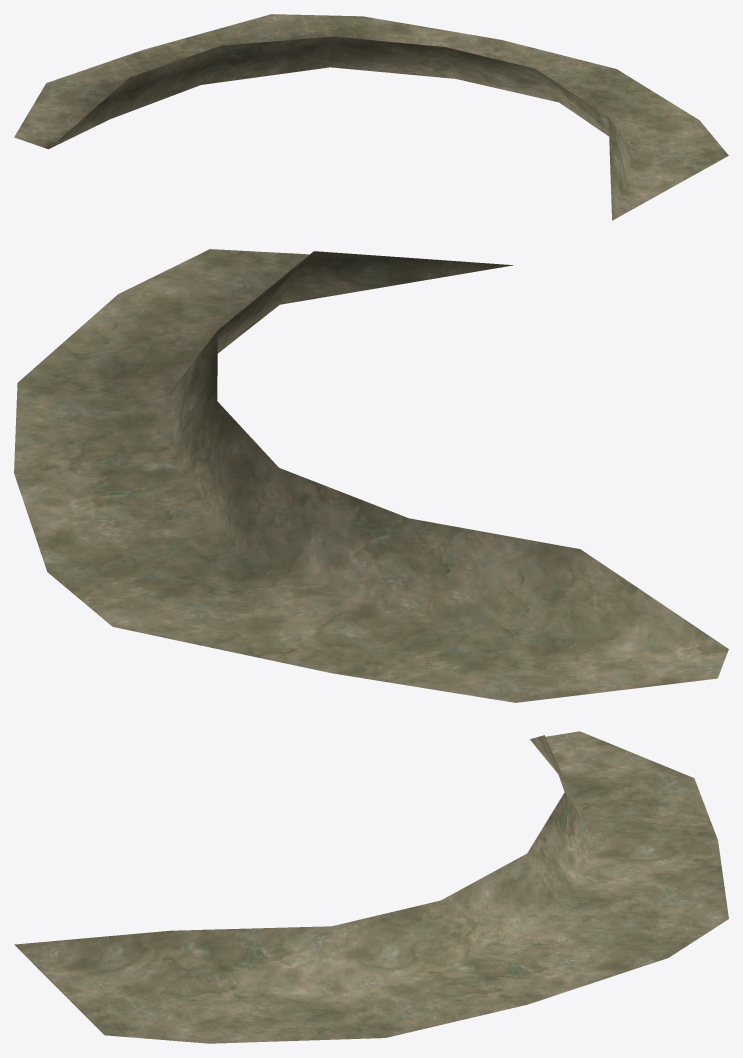
File: EKH_THRONE_PS_TH_OBJECT69.fbx
3 renders of one model, top to bottom at view 1: azimuth 30°, elevation 25°; view 2: azimuth 150°, elevation 25°; view 3: azimuth 270°, elevation 25°, orthographic. The views are drawn at different scales.
Visible parts, largest first — view 1: EKH_THRONE_PS_TH_OBJECT69; view 2: EKH_THRONE_PS_TH_OBJECT69; view 3: EKH_THRONE_PS_TH_OBJECT69.
Boxes of the visible parts, x1,y1,x2,y2 form: EKH_THRONE_PS_TH_OBJECT69: (14,14,728,220); EKH_THRONE_PS_TH_OBJECT69: (14,249,728,702); EKH_THRONE_PS_TH_OBJECT69: (14,731,728,1043).
Bounding box in the file's own units: 55667 × 4744 × 53836.
1 material, 1 textured.
